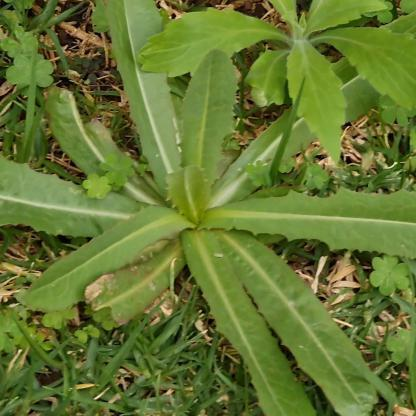Weeds: (4, 4, 415, 415), (138, 0, 415, 165)
